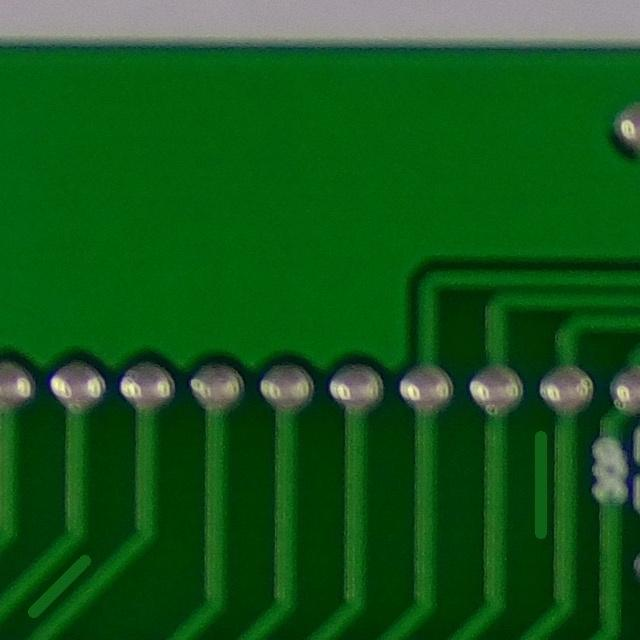spurious_copper: (0, 536, 109, 625), (504, 425, 573, 543)
